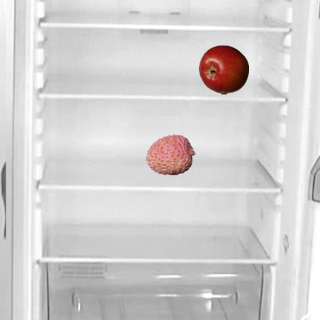Apple Braeburn: (198, 44, 248, 94)
Lychee: (145, 129, 195, 179)
